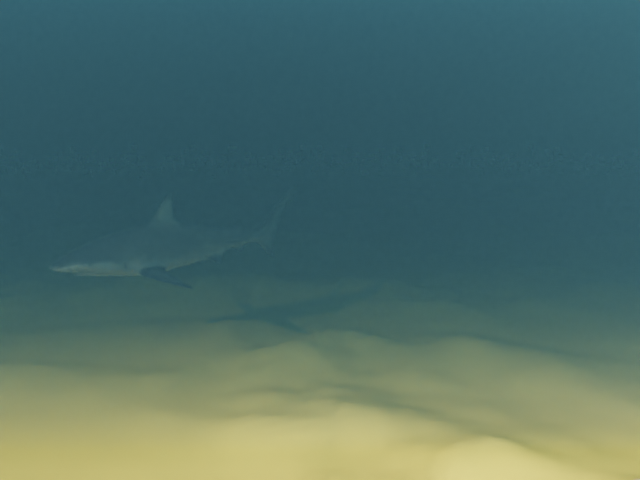Carribean Shark.001: (49, 185, 297, 288)
